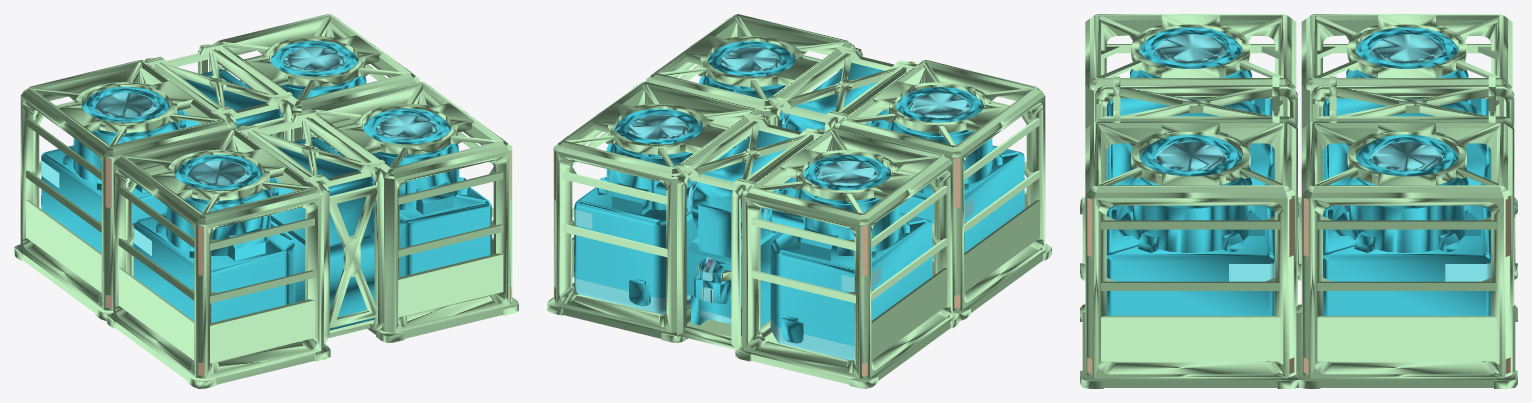
The model's file is tank_hazardous_double_01.glb.
3 views of the same model, side by side, from view 1: azimuth 30°, elevation 25°; view 2: azimuth 150°, elevation 25°; view 3: azimuth 270°, elevation 25° (orthographic). The views are drawn at different scales.
Bounding box in the file's own units: 5.06 × 2.52 × 5.06.
